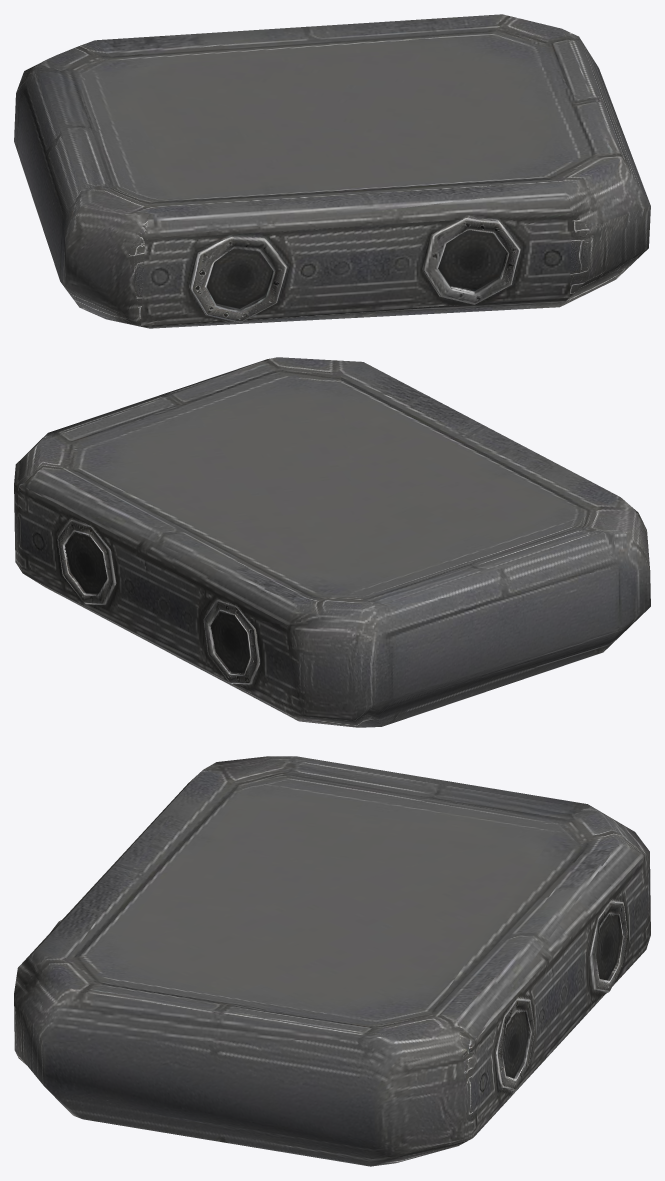
The model's file is cold-iron-v2-panel-a-slab.glb.
The picture shows the model from 3 angles, top to bottom: view 1: azimuth 30°, elevation 25°; view 2: azimuth 150°, elevation 25°; view 3: azimuth 270°, elevation 25°; orthographic projection. The views are drawn at different scales.
Visible parts, largest first — view 1: tripo_node_5e4a6ed2-723b-4eb2-a01f-53e9e0ead0c6; view 2: tripo_node_5e4a6ed2-723b-4eb2-a01f-53e9e0ead0c6; view 3: tripo_node_5e4a6ed2-723b-4eb2-a01f-53e9e0ead0c6.
Boxes of the visible parts, x1=… form: tripo_node_5e4a6ed2-723b-4eb2-a01f-53e9e0ead0c6: x1=14, y1=14, x2=650, y2=328; tripo_node_5e4a6ed2-723b-4eb2-a01f-53e9e0ead0c6: x1=14, y1=357, x2=650, y2=727; tripo_node_5e4a6ed2-723b-4eb2-a01f-53e9e0ead0c6: x1=14, y1=756, x2=650, y2=1166.
Size of the model in its own units: 1.2 by 0.2397 by 1.05.
Materials: 1 (1 with a texture image).
